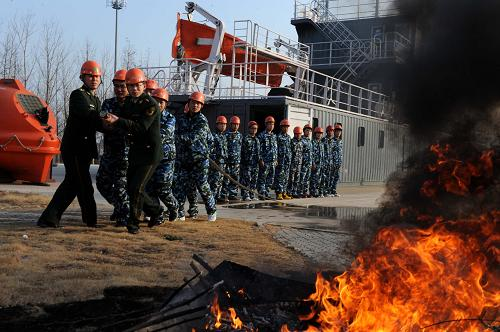fire: (284, 137, 500, 331), (198, 294, 253, 327)
